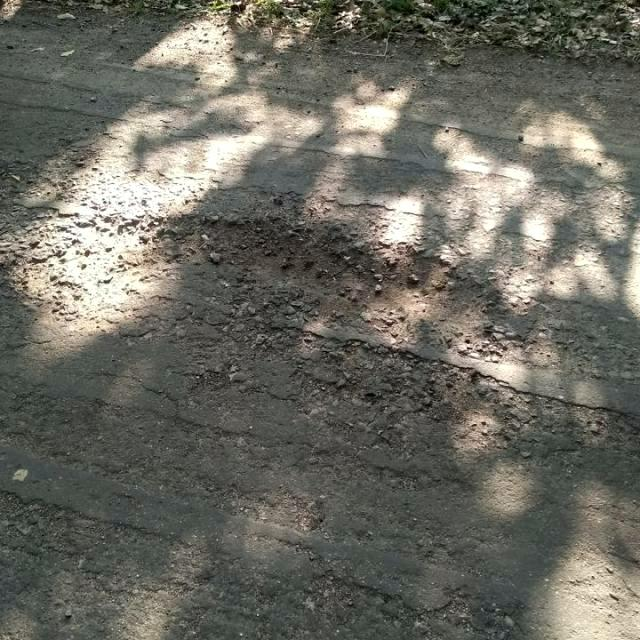Pothole: (130, 208, 500, 348)
